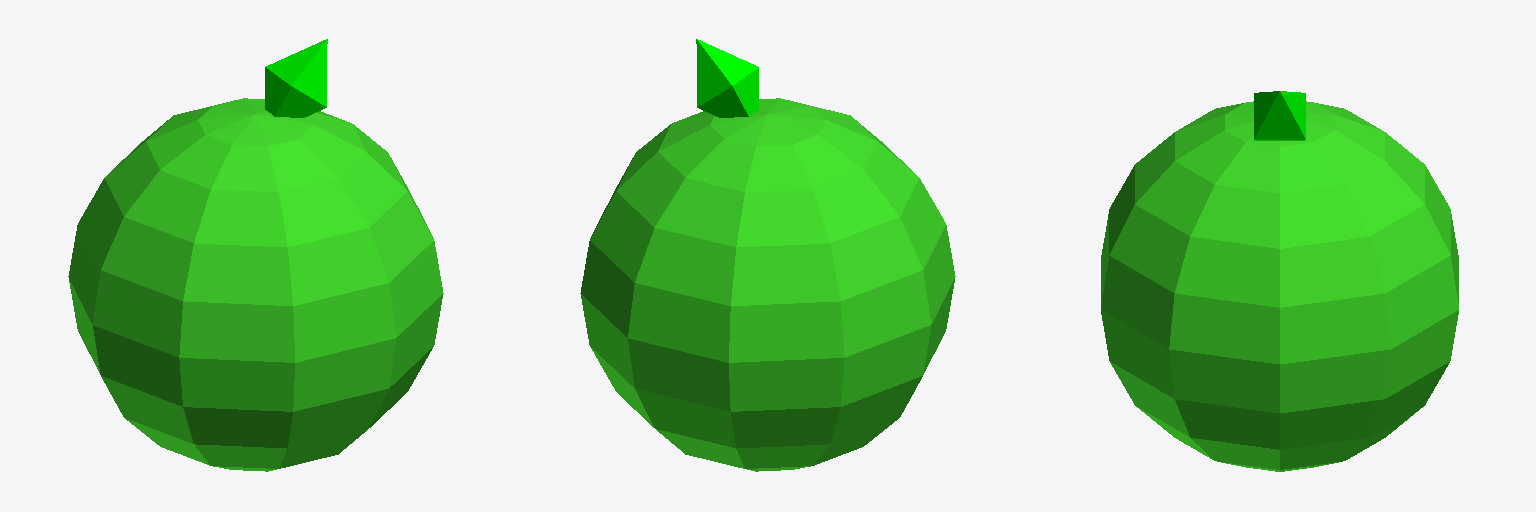
File: Green_NovaFruit.obj
3 views of the same model, side by side, from view 1: azimuth 30°, elevation 25°; view 2: azimuth 150°, elevation 25°; view 3: azimuth 270°, elevation 25° (orthographic).
Visible parts, largest first — view 1: pCube2; view 2: pCube2; view 3: pCube2.
Part boxes in pixels (x1,y1,x2,y2): pCube2: (68,39,443,471); pCube2: (580,39,955,471); pCube2: (1101,91,1458,471).
Size of the model in its own units: 2 by 2.34 by 1.9.